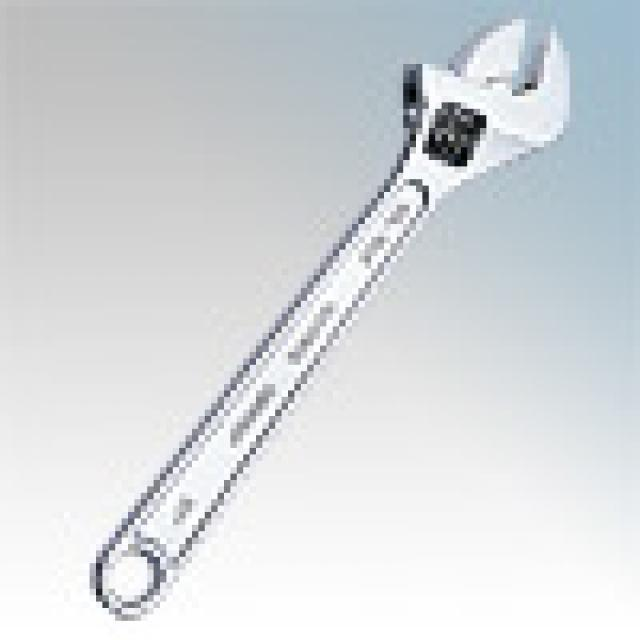wrench: (91, 22, 587, 614)
